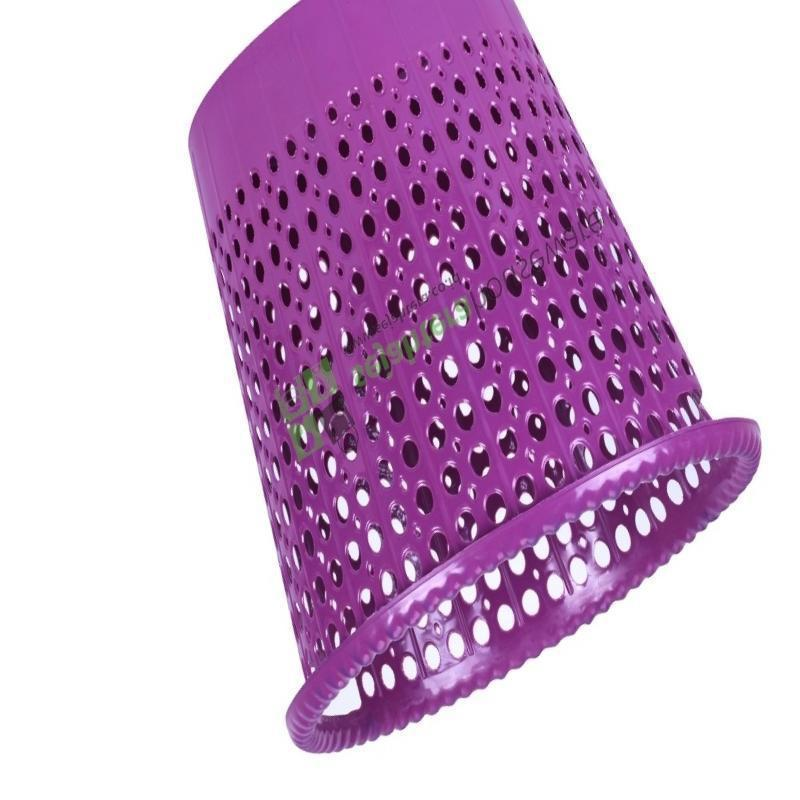Bote de Basura: (186, 13, 753, 749)
